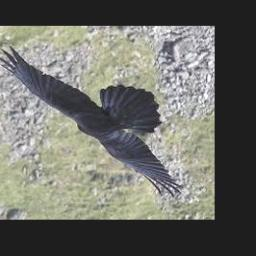Crow: (0, 45, 183, 197)
